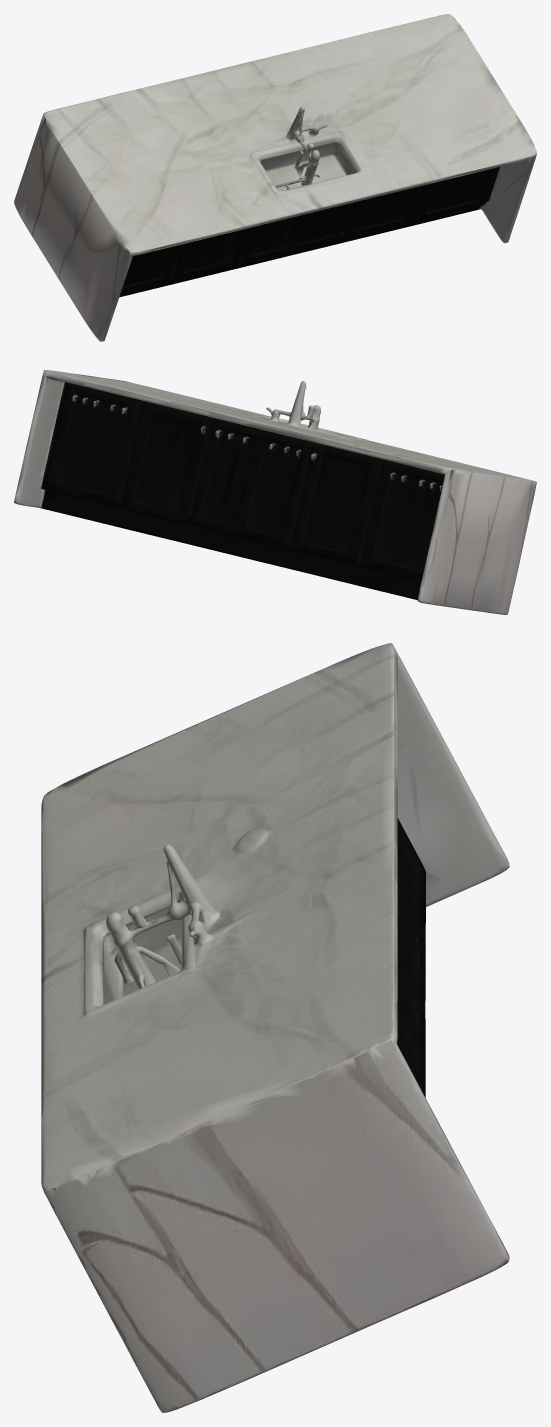
3 views of the same model, one above another, from view 1: azimuth 30°, elevation 25°; view 2: azimuth 150°, elevation 25°; view 3: azimuth 270°, elevation 25° (orthographic). The views are drawn at different scales.
Parts seen in each view (by area): view 1: material; view 2: material; view 3: material.
Boxes of the visible parts, x1=… form: material: x1=14, y1=14, x2=536, y2=341; material: x1=14, y1=370, x2=536, y2=614; material: x1=41, y1=643, x2=509, y2=1412.
Bounding box in the file's own units: 1 × 0.4342 × 0.4916.
Materials: 1 (1 with a texture image).
